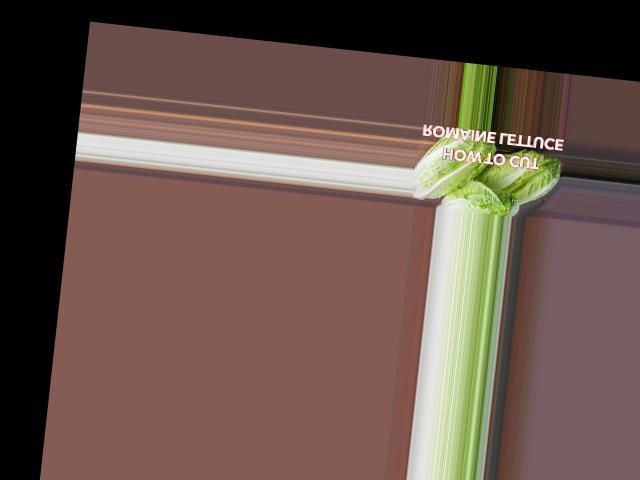lettuce: (467, 137, 567, 214)
